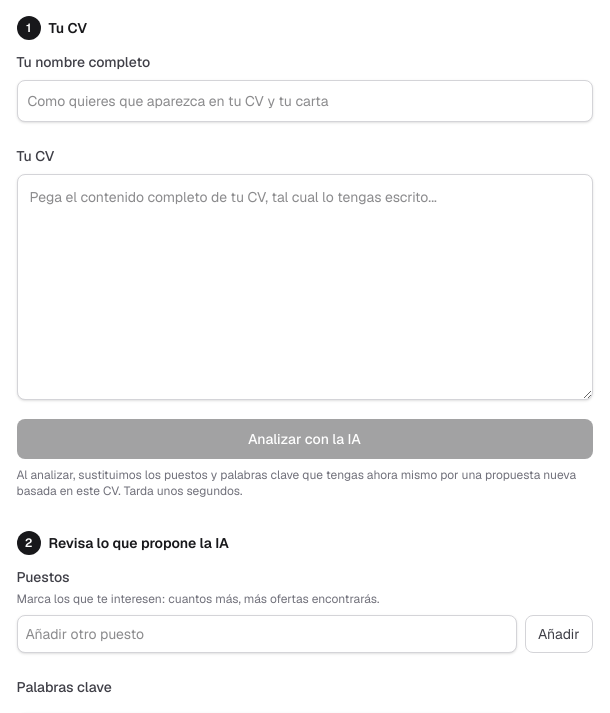
Scenario: FormularioPerfil — B1: pegar el CV › se habilita en cuanto hay texto pegado
Type "Texto de mi CV" into the text box labelled "Tu CV" at (304, 286), box [16, 174, 592, 400]
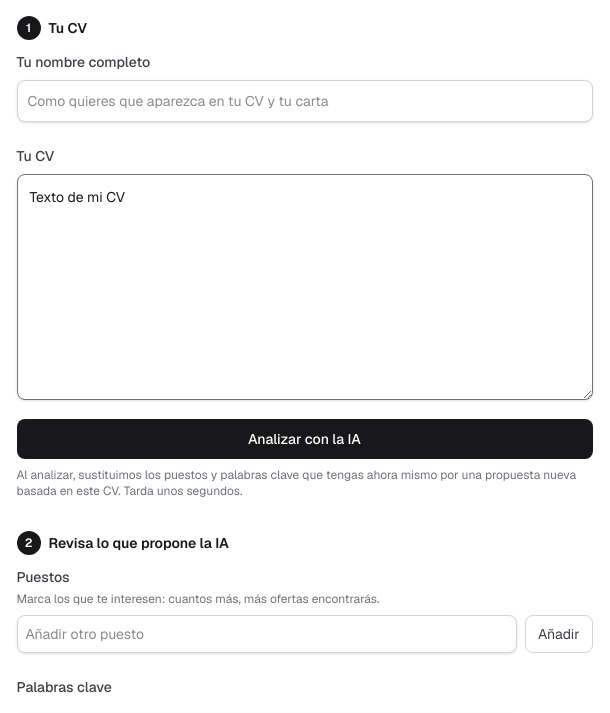
Expected: the button "Analizar con la IA" is enabled, [16, 418, 592, 458]
